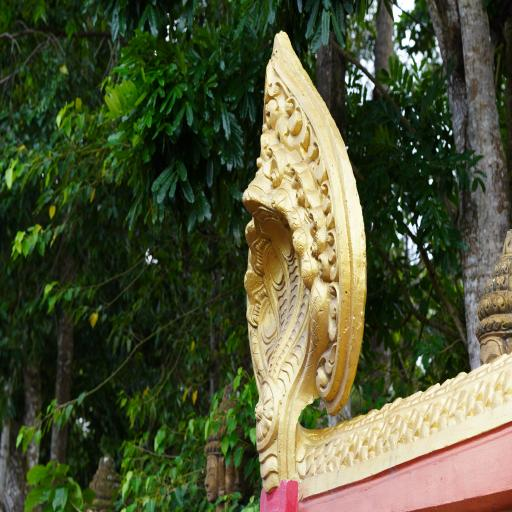ran: (234, 22, 380, 471)
